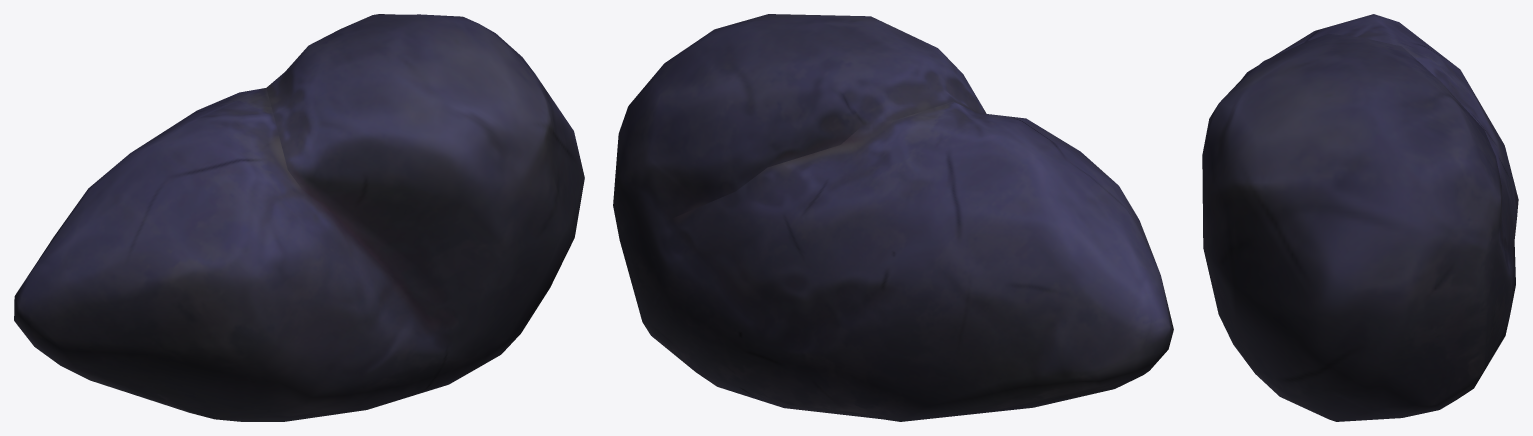
The model's file is SM_Gem_Obsidian_005.fbx.
The picture shows the model from 3 angles, left to right: view 1: azimuth 30°, elevation 25°; view 2: azimuth 150°, elevation 25°; view 3: azimuth 270°, elevation 25°; orthographic projection. The views are drawn at different scales.
Parts seen in each view (by area): view 1: SM_Gem_Obsidian_005; view 2: SM_Gem_Obsidian_005; view 3: SM_Gem_Obsidian_005.
Boxes of the visible parts, x1,y1,x2,y2 form: SM_Gem_Obsidian_005: [14, 14, 584, 421]; SM_Gem_Obsidian_005: [613, 14, 1173, 421]; SM_Gem_Obsidian_005: [1202, 14, 1518, 421].
Bounding box in the file's own units: 69.01 × 43.26 × 36.02.
